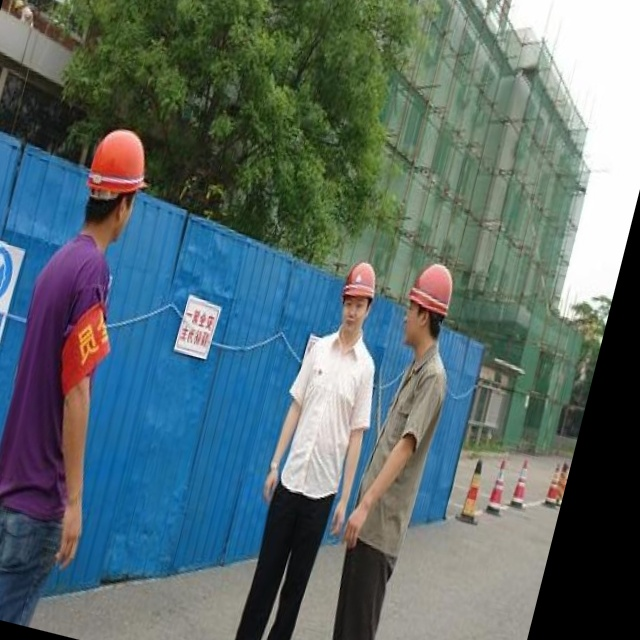Sin_Chaleco: (0, 227, 134, 509), (344, 342, 457, 555), (264, 321, 390, 512)
